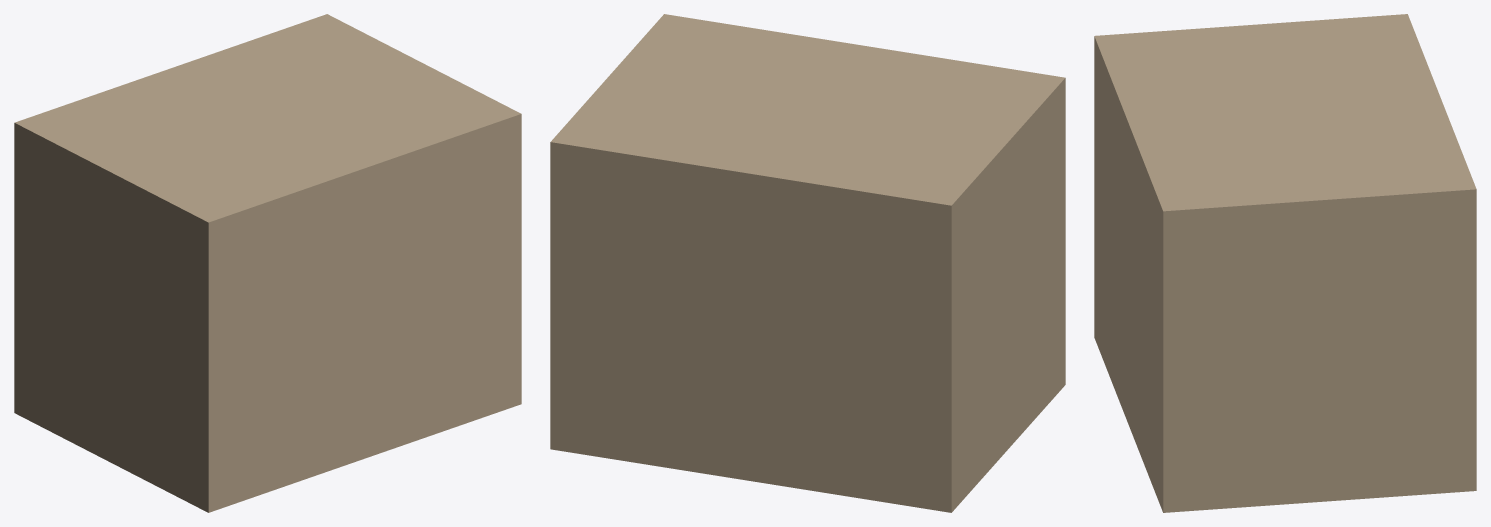
File: bld_107639473.dae
3 renders of one model, left to right at view 1: azimuth 30°, elevation 25°; view 2: azimuth 150°, elevation 25°; view 3: azimuth 270°, elevation 25°, orthographic. The views are drawn at different scales.
Parts seen in each view (by area): view 1: bld_107639473; view 2: bld_107639473; view 3: bld_107639473.
Part boxes in pixels (x1,y1,x2,y2): bld_107639473: (14, 14, 521, 512); bld_107639473: (550, 14, 1065, 512); bld_107639473: (1094, 14, 1476, 512).
Bounding box in the file's own units: 11.23 × 9.19 × 8.
